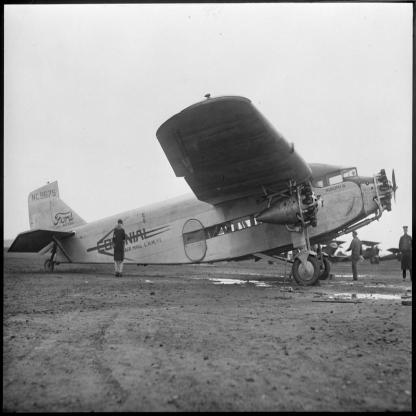CIV_Plane: (6, 90, 401, 290)
